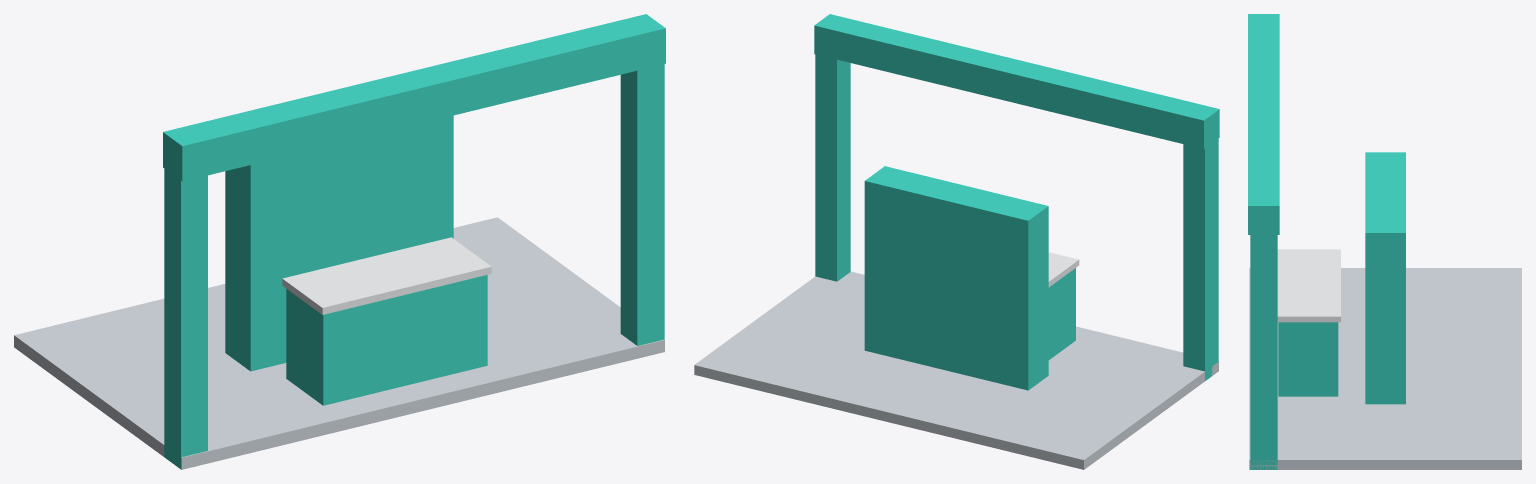
The picture shows the model from 3 angles, left to right: view 1: azimuth 30°, elevation 25°; view 2: azimuth 150°, elevation 25°; view 3: azimuth 270°, elevation 25°; orthographic projection. The views are drawn at different scales.
Visible parts, largest first — view 1: Exhibition Booth Concept; view 2: Exhibition Booth Concept; view 3: Exhibition Booth Concept.
Boxes of the visible parts, left/top/right/bottom form: Exhibition Booth Concept: left=14, top=14, right=665, bottom=469; Exhibition Booth Concept: left=694, top=14, right=1219, bottom=469; Exhibition Booth Concept: left=1248, top=14, right=1521, bottom=469.
Bounding box in the file's own units: 5 × 3.2 × 3.01.
